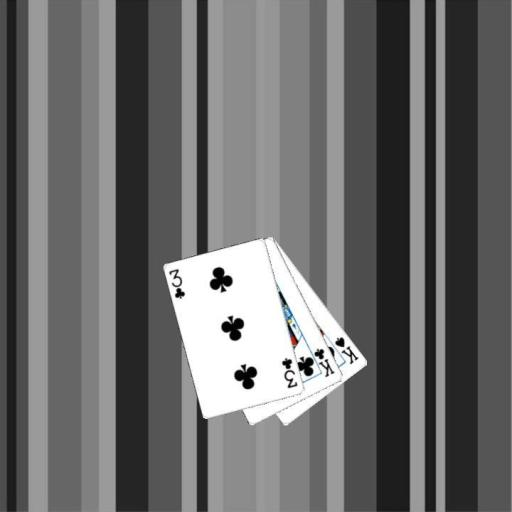3C: (166, 266, 187, 301), (279, 355, 299, 390)
KC: (306, 346, 336, 379)
KS: (332, 334, 361, 366)
